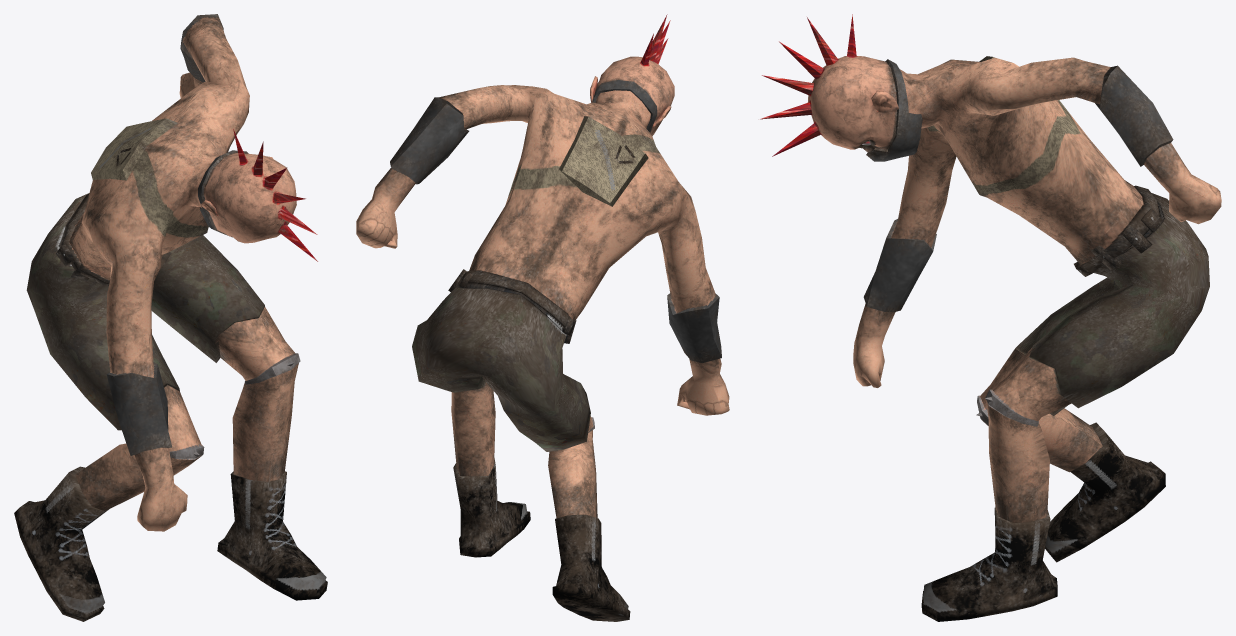
Rendered from Anim_cogerobjeto_npc2.0028.obj.
3 renders of one model, left to right at view 1: azimuth 30°, elevation 25°; view 2: azimuth 150°, elevation 25°; view 3: azimuth 270°, elevation 25°, orthographic. The views are drawn at different scales.
Parts seen in each view (by area): view 1: polySurface1; view 2: polySurface1; view 3: polySurface1.
Boxes of the visible parts, left/top/right/bottom form: polySurface1: left=14, top=14, right=327, bottom=621; polySurface1: left=356, top=14, right=729, bottom=621; polySurface1: left=760, top=14, right=1221, bottom=621.
Bounding box in the file's own units: 3.21 × 7.03 × 5.21.
2 materials, 2 textured.
